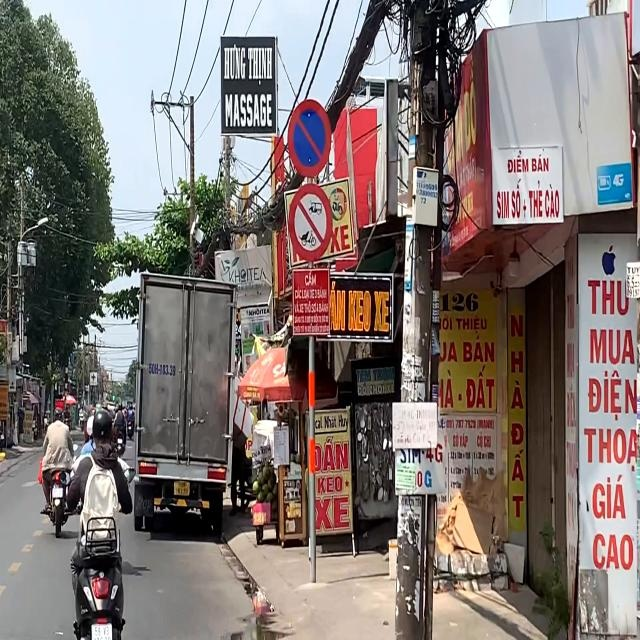bien_cam: (288, 99, 332, 177)
